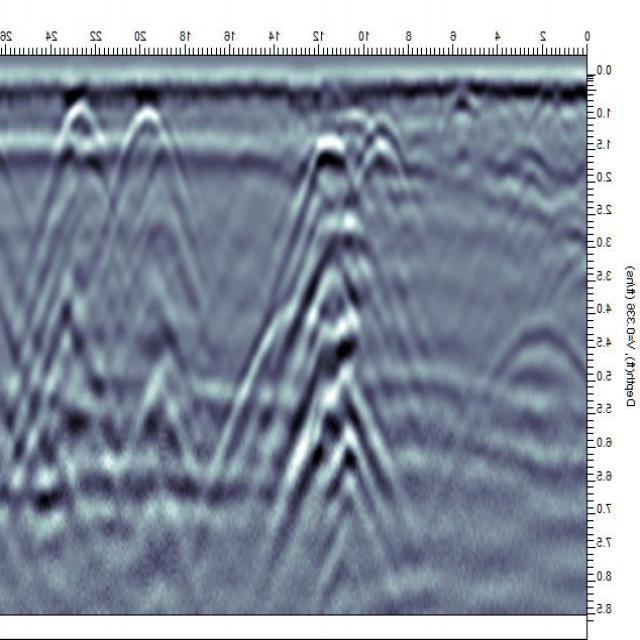hyperbola: (34, 90, 124, 232), (104, 99, 192, 225), (352, 112, 417, 236)
